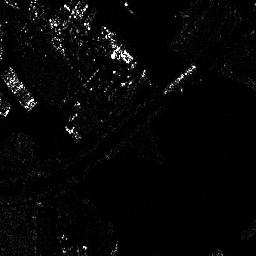ship: (162, 63, 197, 94)
